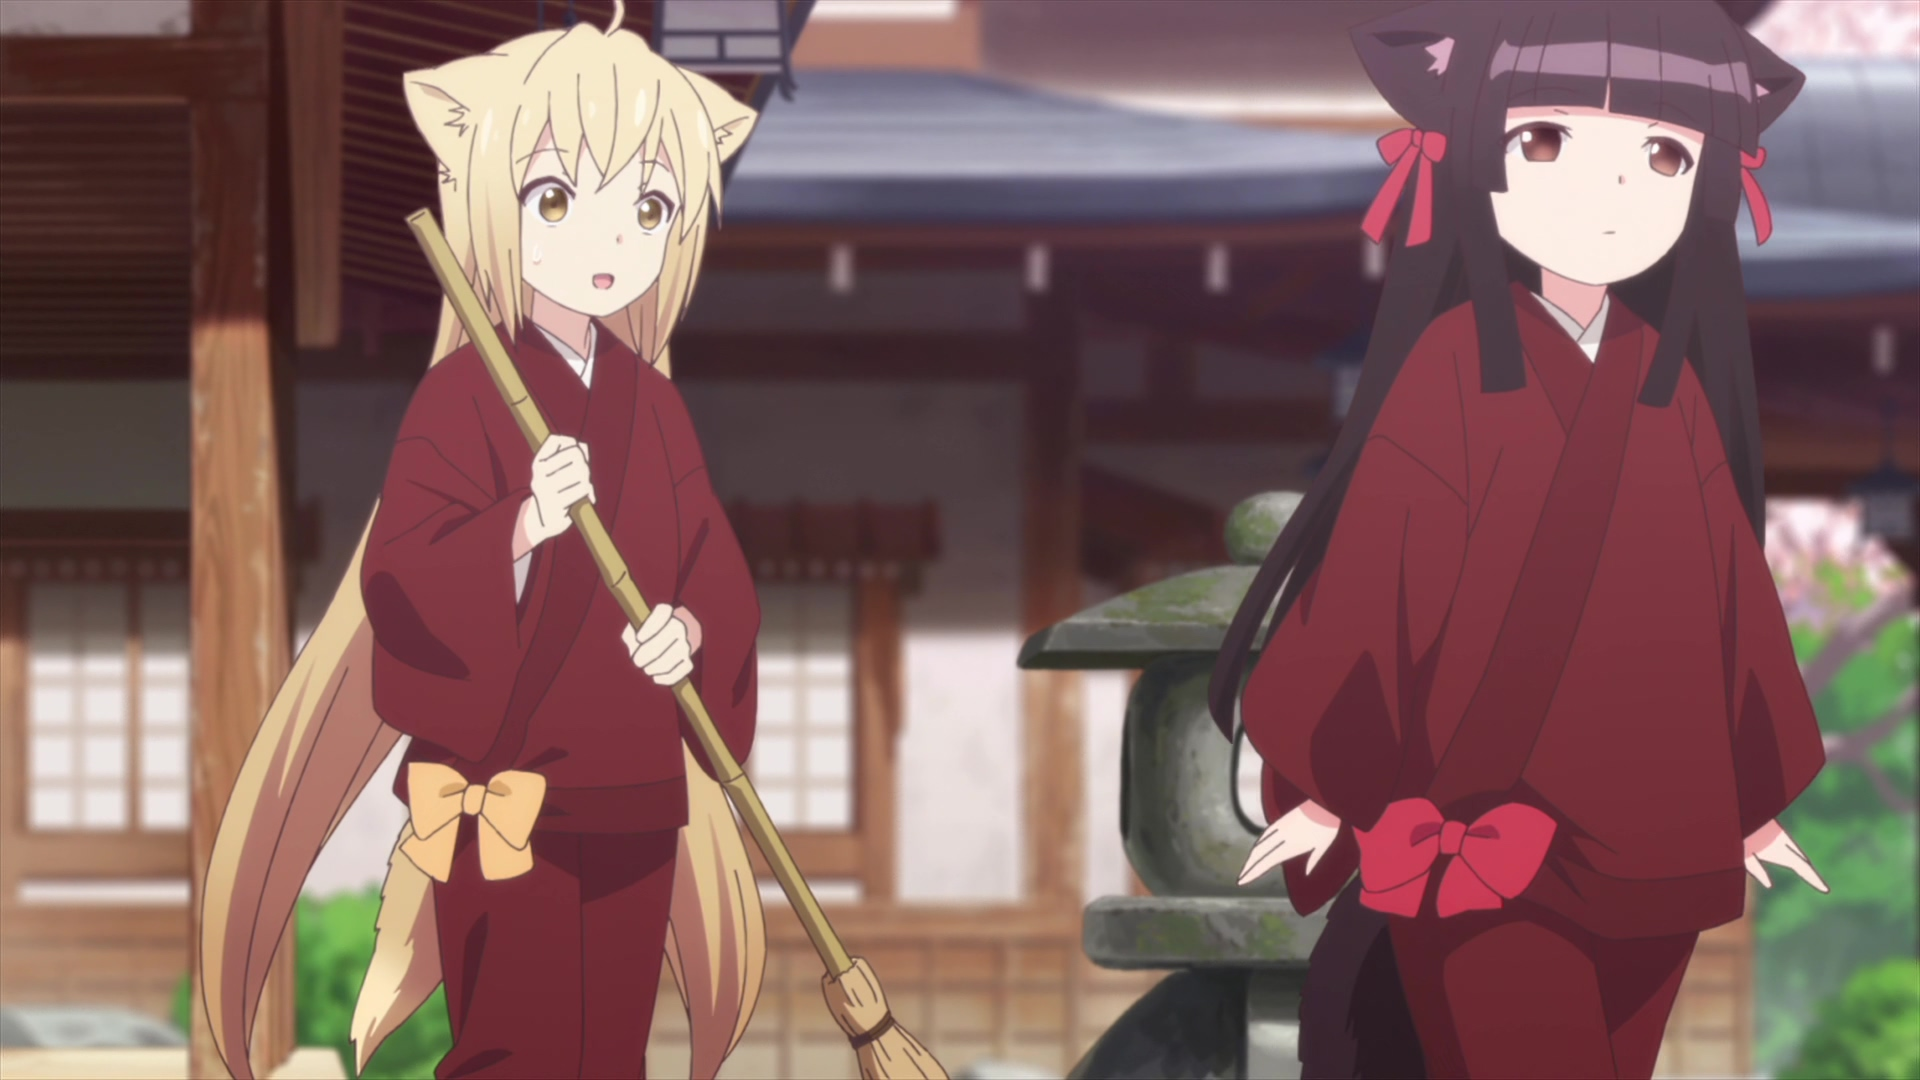柚: (199, 1, 765, 1080)
樱: (1204, 1, 1828, 1080)
